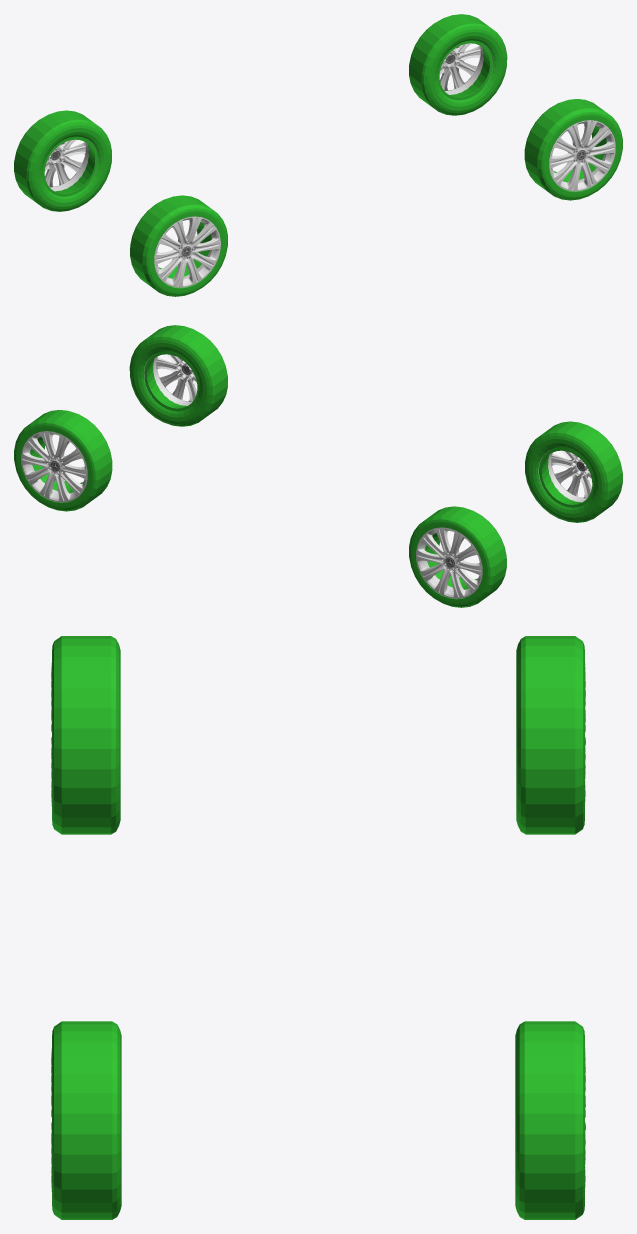
3 renders of one model, top to bottom at view 1: azimuth 30°, elevation 25°; view 2: azimuth 150°, elevation 25°; view 3: azimuth 270°, elevation 25°, orthographic. The views are drawn at different scales.
Visible parts, largest first — view 1: Tire_Rubber007, Tire_Rubber008, Tire_Rubber009, _213_V_glossy_black_rim.006, _213_V_glossy_black_rim001, _213_V_glossy_silver_rim.007, _213_V_glossy_silver_rim001, _213_V_glossy_black_rim.005, _213_V_glossy_black_rim.004; view 2: Tire_Rubber007, Tire_Rubber008, Tire_Rubber009, _213_V_glossy_black_rim.005, _213_V_glossy_black_rim.004, _213_V_glossy_silver_rim.006, _213_V_glossy_silver_rim.005, _213_V_glossy_black_rim.006, _213_V_glossy_black_rim001; view 3: Tire_Rubber007, Tire_Rubber008, Tire_Rubber009.
Boxes of the visible parts, bbox=[...] form: Tire_Rubber007: bbox=[14, 110, 227, 296]; Tire_Rubber008: bbox=[409, 14, 622, 200]; Tire_Rubber009: bbox=[409, 14, 606, 190]; _213_V_glossy_black_rim.006: bbox=[550, 121, 614, 189]; _213_V_glossy_black_rim001: bbox=[155, 217, 219, 286]; _213_V_glossy_silver_rim.007: bbox=[549, 120, 615, 191]; _213_V_glossy_silver_rim001: bbox=[154, 216, 220, 287]; _213_V_glossy_black_rim.005: bbox=[439, 43, 480, 90]; _213_V_glossy_black_rim.004: bbox=[45, 139, 85, 187]; Tire_Rubber007: bbox=[409, 421, 622, 607]; Tire_Rubber008: bbox=[14, 325, 227, 511]; Tire_Rubber009: bbox=[30, 325, 227, 501]; _213_V_glossy_black_rim.005: bbox=[22, 432, 86, 500]; _213_V_glossy_black_rim.004: bbox=[417, 528, 481, 597]; _213_V_glossy_silver_rim.006: bbox=[21, 431, 87, 502]; _213_V_glossy_silver_rim.005: bbox=[416, 527, 482, 598]; _213_V_glossy_black_rim.006: bbox=[156, 354, 197, 401]; _213_V_glossy_black_rim001: bbox=[551, 450, 591, 498]; Tire_Rubber007: bbox=[52, 636, 584, 834]; Tire_Rubber008: bbox=[52, 1021, 584, 1219]; Tire_Rubber009: bbox=[62, 1021, 574, 1219].
Bounding box in the file's own units: 3.75 × 0.6704 × 1.81.
